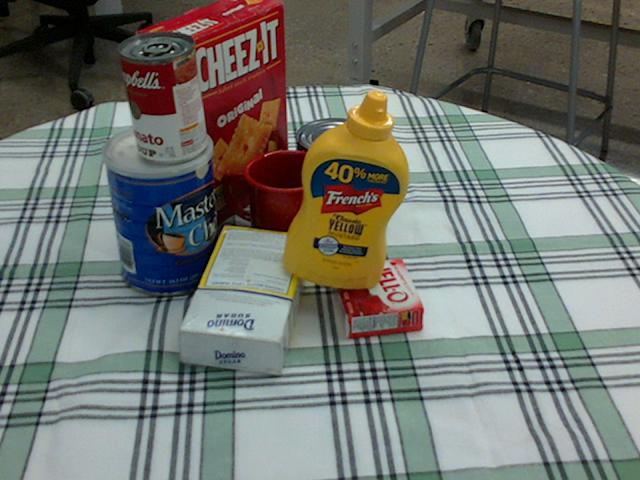cracker_box: (136, 0, 287, 231)
gelatin_box: (330, 258, 422, 338)
master_chef_can: (100, 122, 221, 296)
mug: (223, 147, 329, 251)
mustard_bottle: (282, 89, 409, 288)
potted_meat_can: (281, 134, 377, 215)
sugar_box: (180, 224, 311, 374)
tomato_soup_can: (119, 31, 206, 162)
tuna_fish_can: (294, 118, 371, 178)
